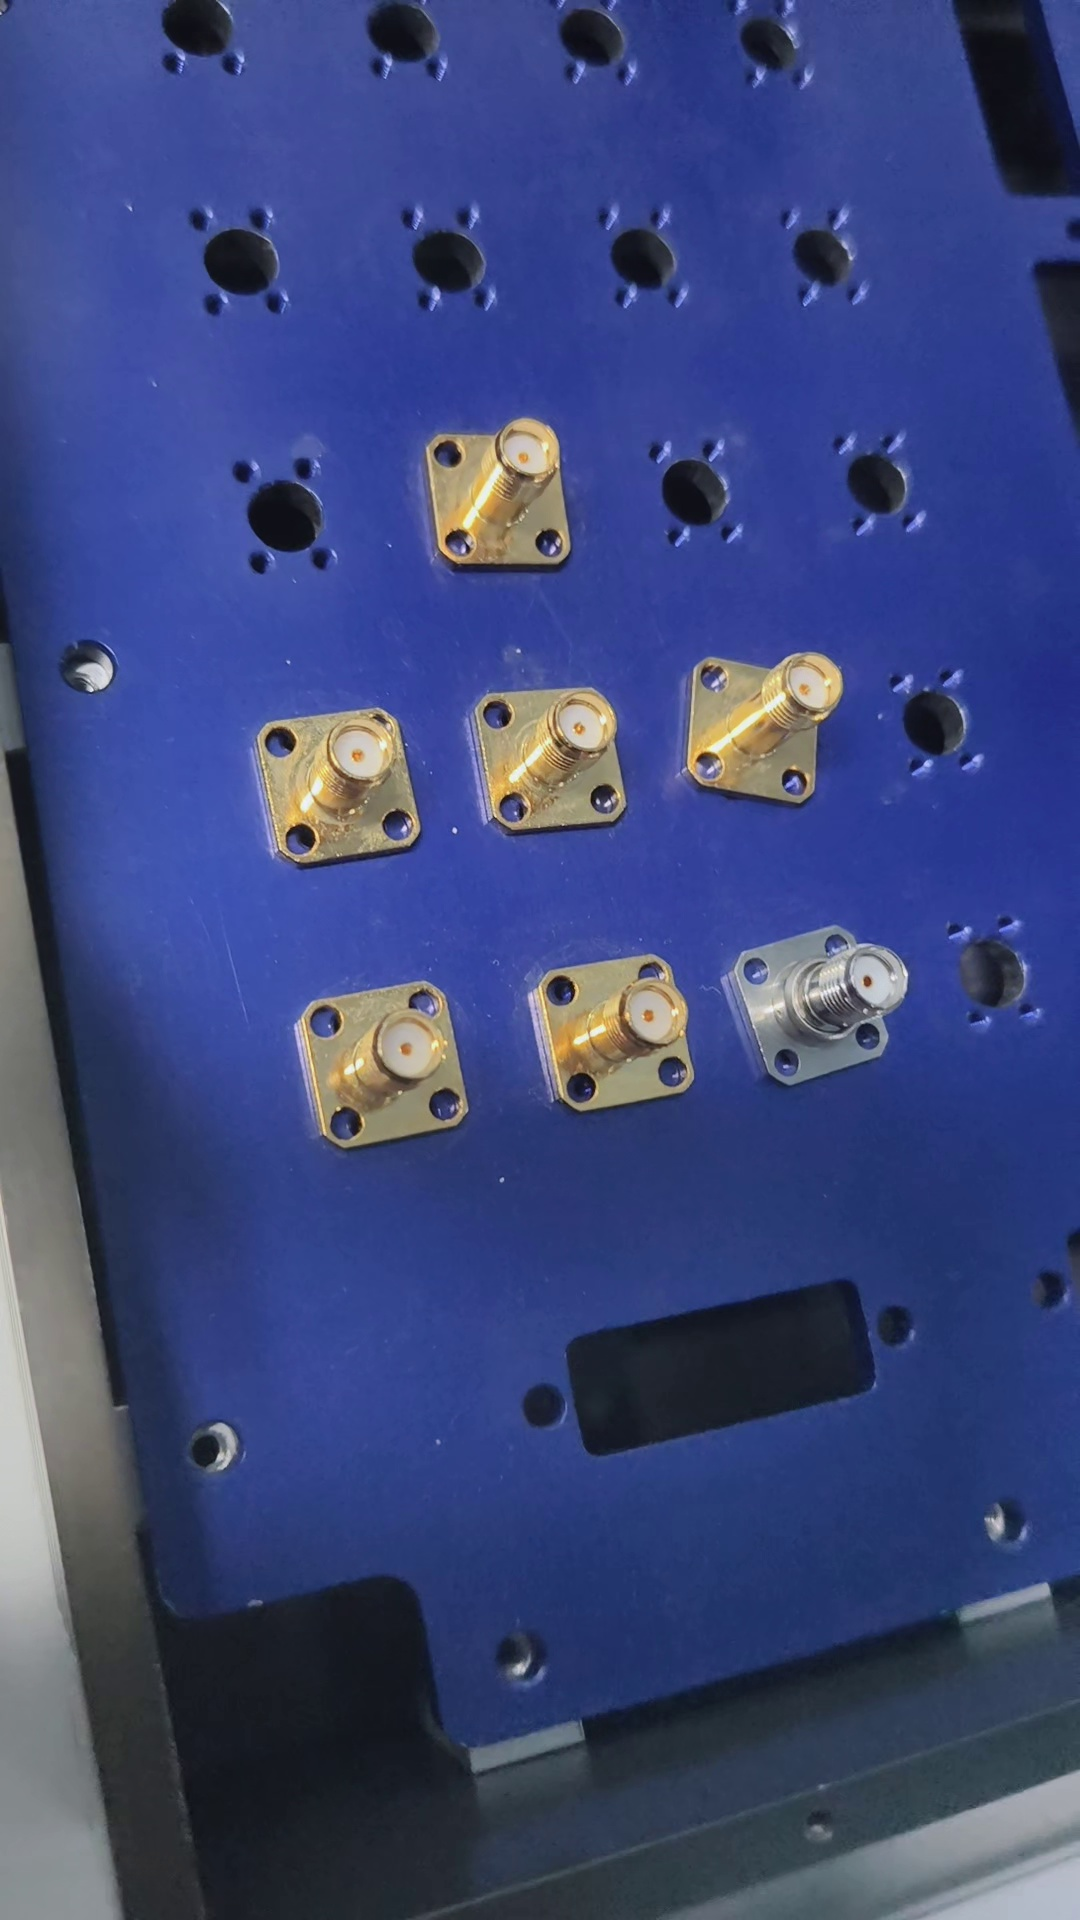SMA: (299, 967, 475, 1153), (529, 940, 698, 1120), (241, 705, 427, 866), (421, 414, 595, 576), (737, 914, 897, 1088), (473, 678, 633, 836), (684, 650, 845, 804)
